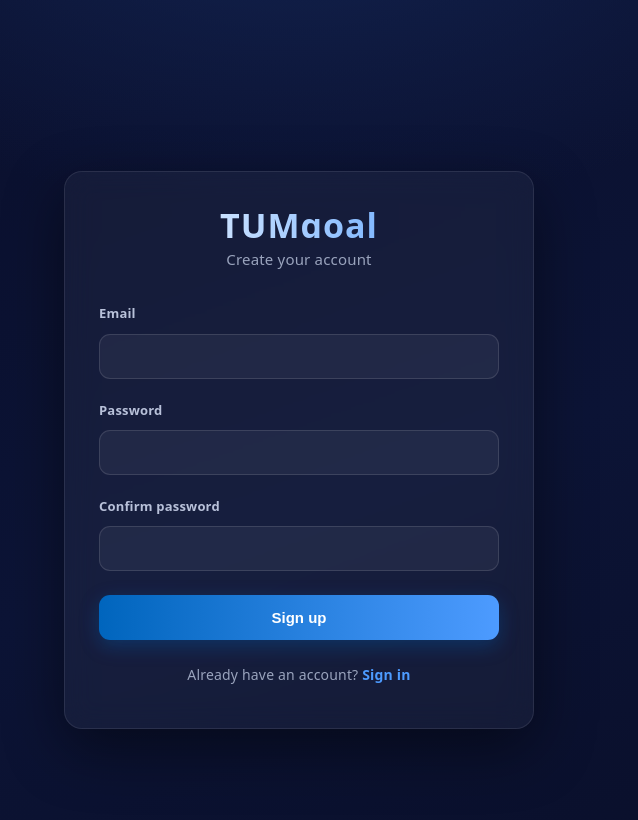
it: Signup page › shows error when password is shorter than minimum length
This screenshot has width=638, height=820.
Type "test@example.com" into the field labelled "Email".
click(299, 356); type("test@example.com")  # box x1=99 y1=334 x2=499 y2=378
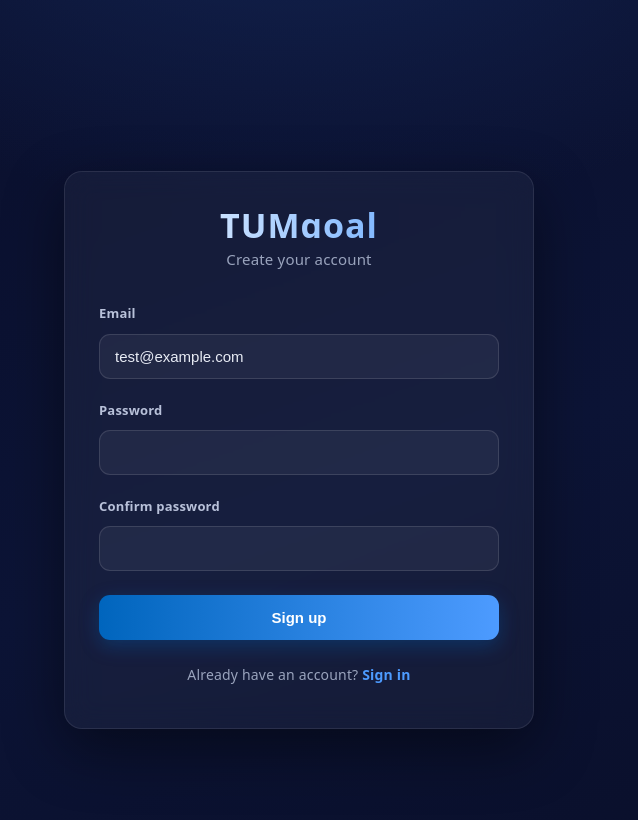
Type "short" into the password field labelled "Password".
click(299, 452); type("short")  # box x1=99 y1=430 x2=499 y2=475
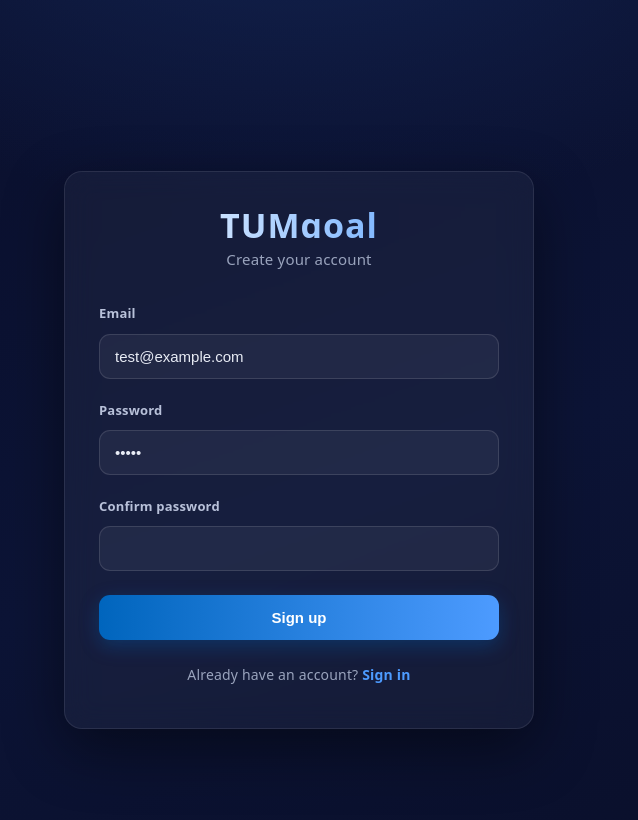
Type "short" into the password field labelled "Confirm password".
click(299, 548); type("short")  # box x1=99 y1=526 x2=499 y2=571
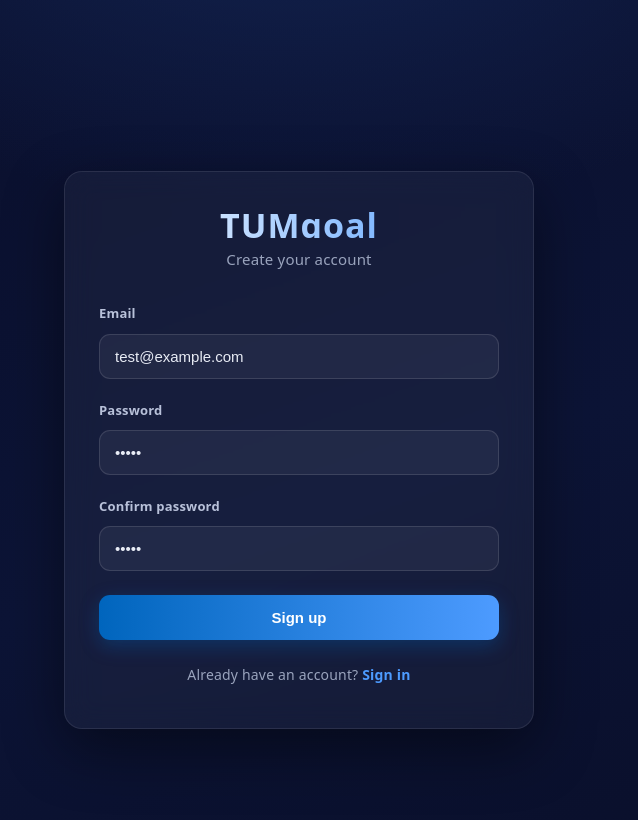
Click the button "Sign up".
click(299, 617)  # box x1=99 y1=595 x2=499 y2=640
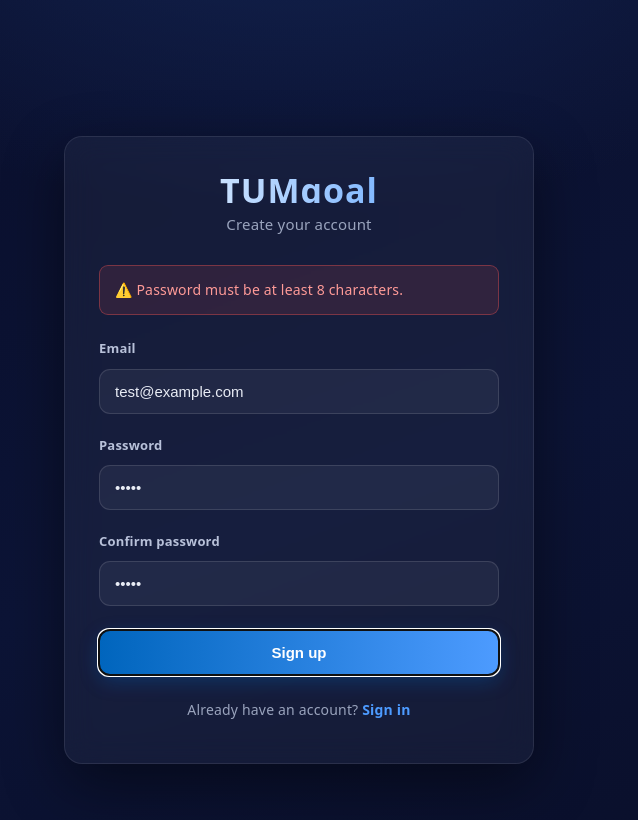
Now the text "⚠️ Password must be at least 8 characters." is shown, box x1=99 y1=265 x2=499 y2=316
